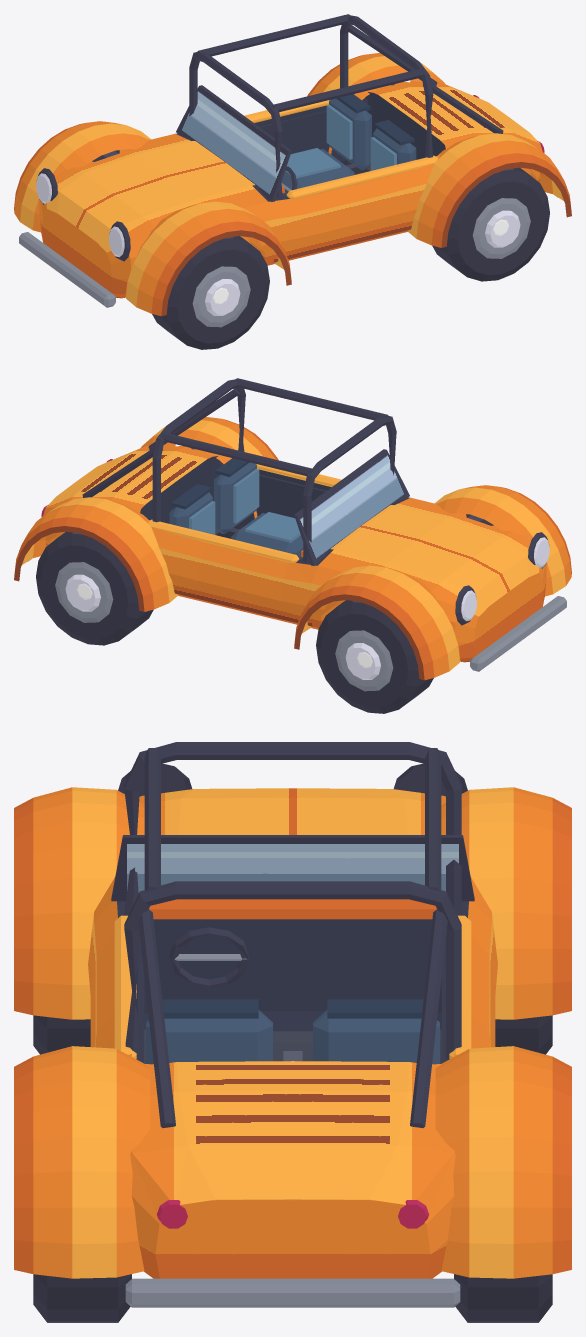
3 views of the same model, one above another, from view 1: azimuth 30°, elevation 25°; view 2: azimuth 150°, elevation 25°; view 3: azimuth 270°, elevation 25° (orthographic). The views are drawn at different scales.
Visible parts, largest first — view 1: Body_static, Wheel_RL_tire_hub, Wheel_FL_tire_hub; view 2: Body_static, Wheel_RR_tire_hub, Wheel_FR_tire_hub; view 3: Body_static, Wheel_RL_tire_hub, Wheel_RR_tire_hub, Wheel_FL_tire_hub, Wheel_FR_tire_hub.
Part boxes in pixels (x1,y1,x2,y2): Body_static: [14, 14, 571, 316]; Wheel_RL_tire_hub: [432, 167, 549, 281]; Wheel_FL_tire_hub: [152, 236, 269, 349]; Body_static: [14, 378, 571, 680]; Wheel_RR_tire_hub: [36, 531, 153, 645]; Wheel_FR_tire_hub: [316, 600, 433, 713]; Body_static: [14, 742, 571, 1307]; Wheel_RL_tire_hub: [33, 1274, 131, 1322]; Wheel_RR_tire_hub: [454, 1274, 552, 1322]; Wheel_FL_tire_hub: [33, 1015, 90, 1054]; Wheel_FR_tire_hub: [495, 1015, 552, 1054].
Size of the model in its own units: 67.83 by 28.61 by 37.39.
1 material, 1 textured.
